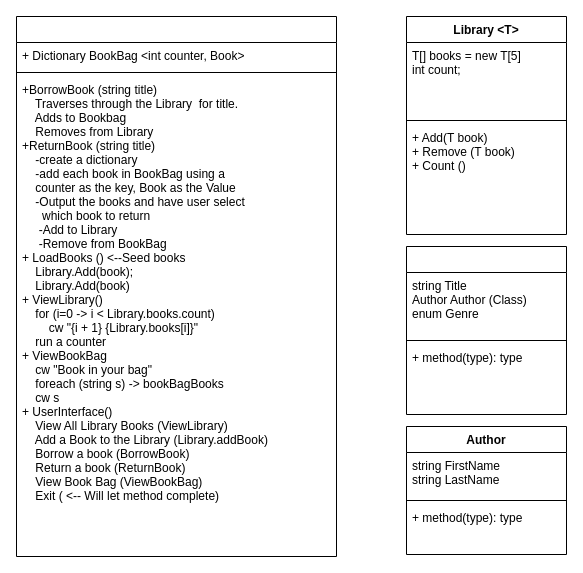
This 583x573 diagram has some shape labels left out. Here are the shapes that lost their labels. From the top down, the box of each, then its label:
(16, 16, 336, 556): Program.cs
(406, 246, 566, 414): Books
